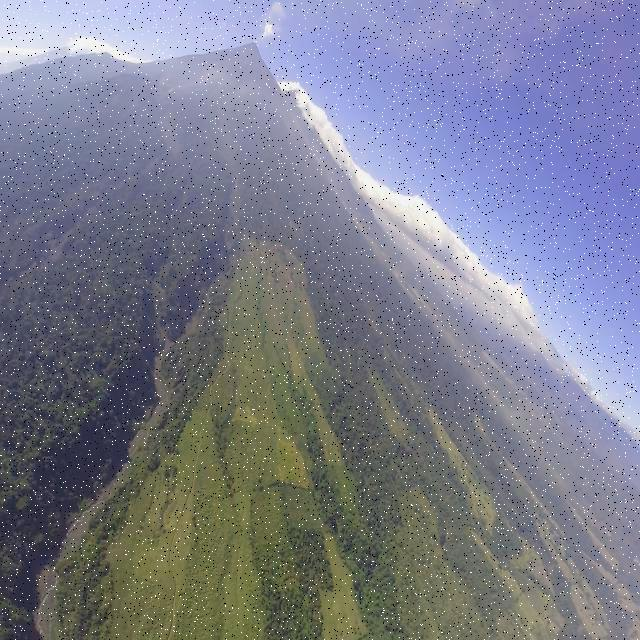Plume: (260, 23, 274, 41)
Summit: (238, 40, 261, 62)
